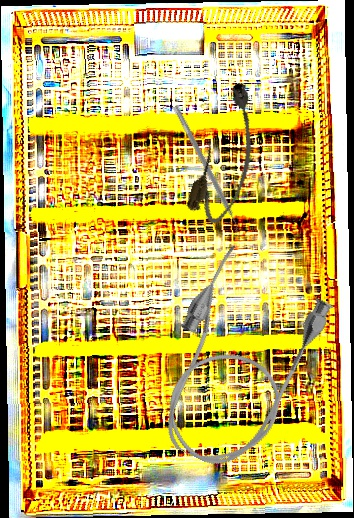Cannula: (132, 239, 340, 484), (183, 77, 274, 229)
Spatula Surgical: (167, 104, 244, 236)
